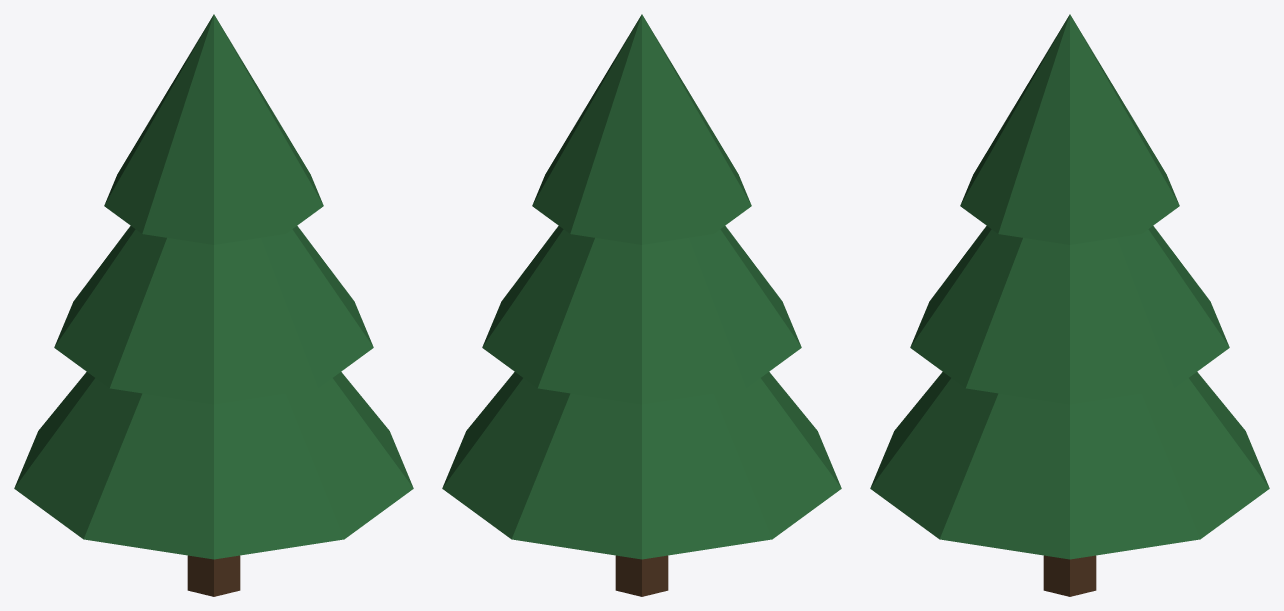
Rendered from tree_pine.glb.
3 views of the same model, side by side, from view 1: azimuth 30°, elevation 25°; view 2: azimuth 150°, elevation 25°; view 3: azimuth 270°, elevation 25° (orthographic).
Bounding box in the file's own units: 1.94 × 3.1 × 1.97.
